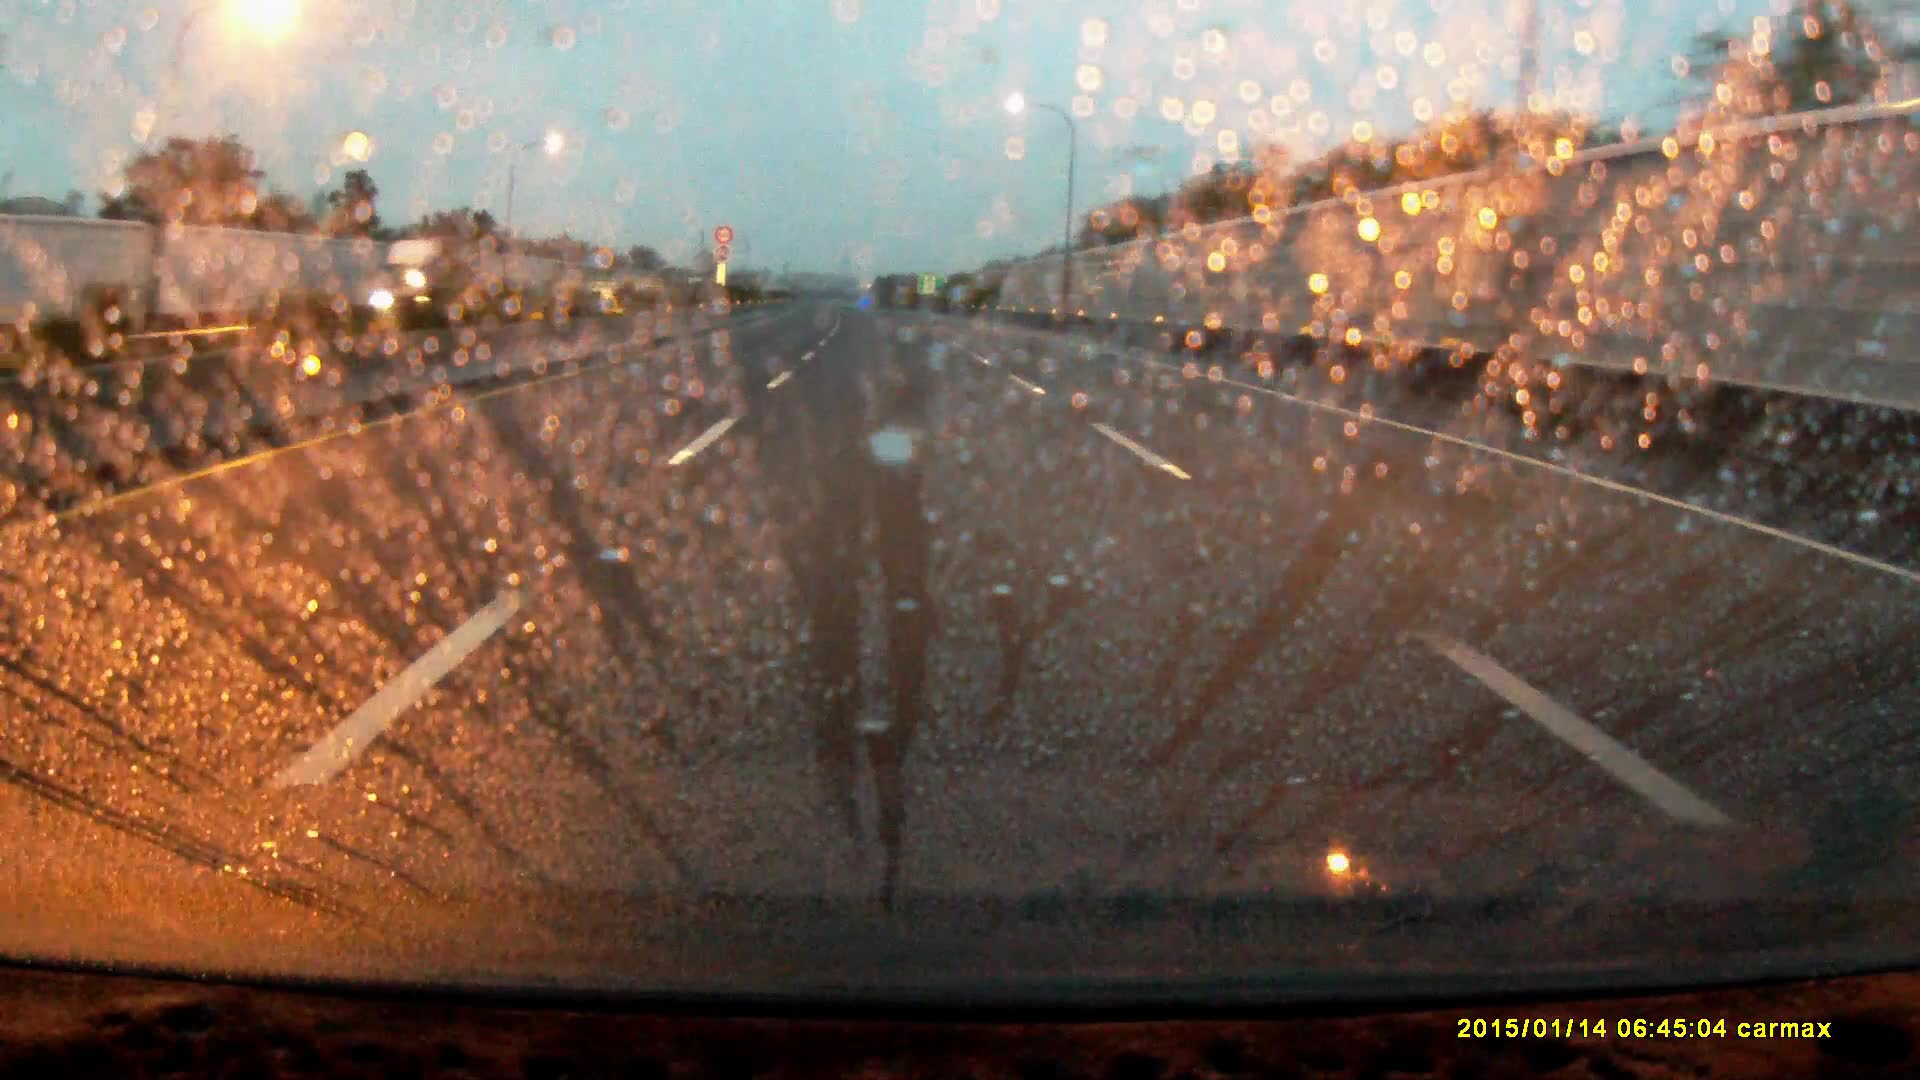vehicle: (365, 233, 487, 318)
